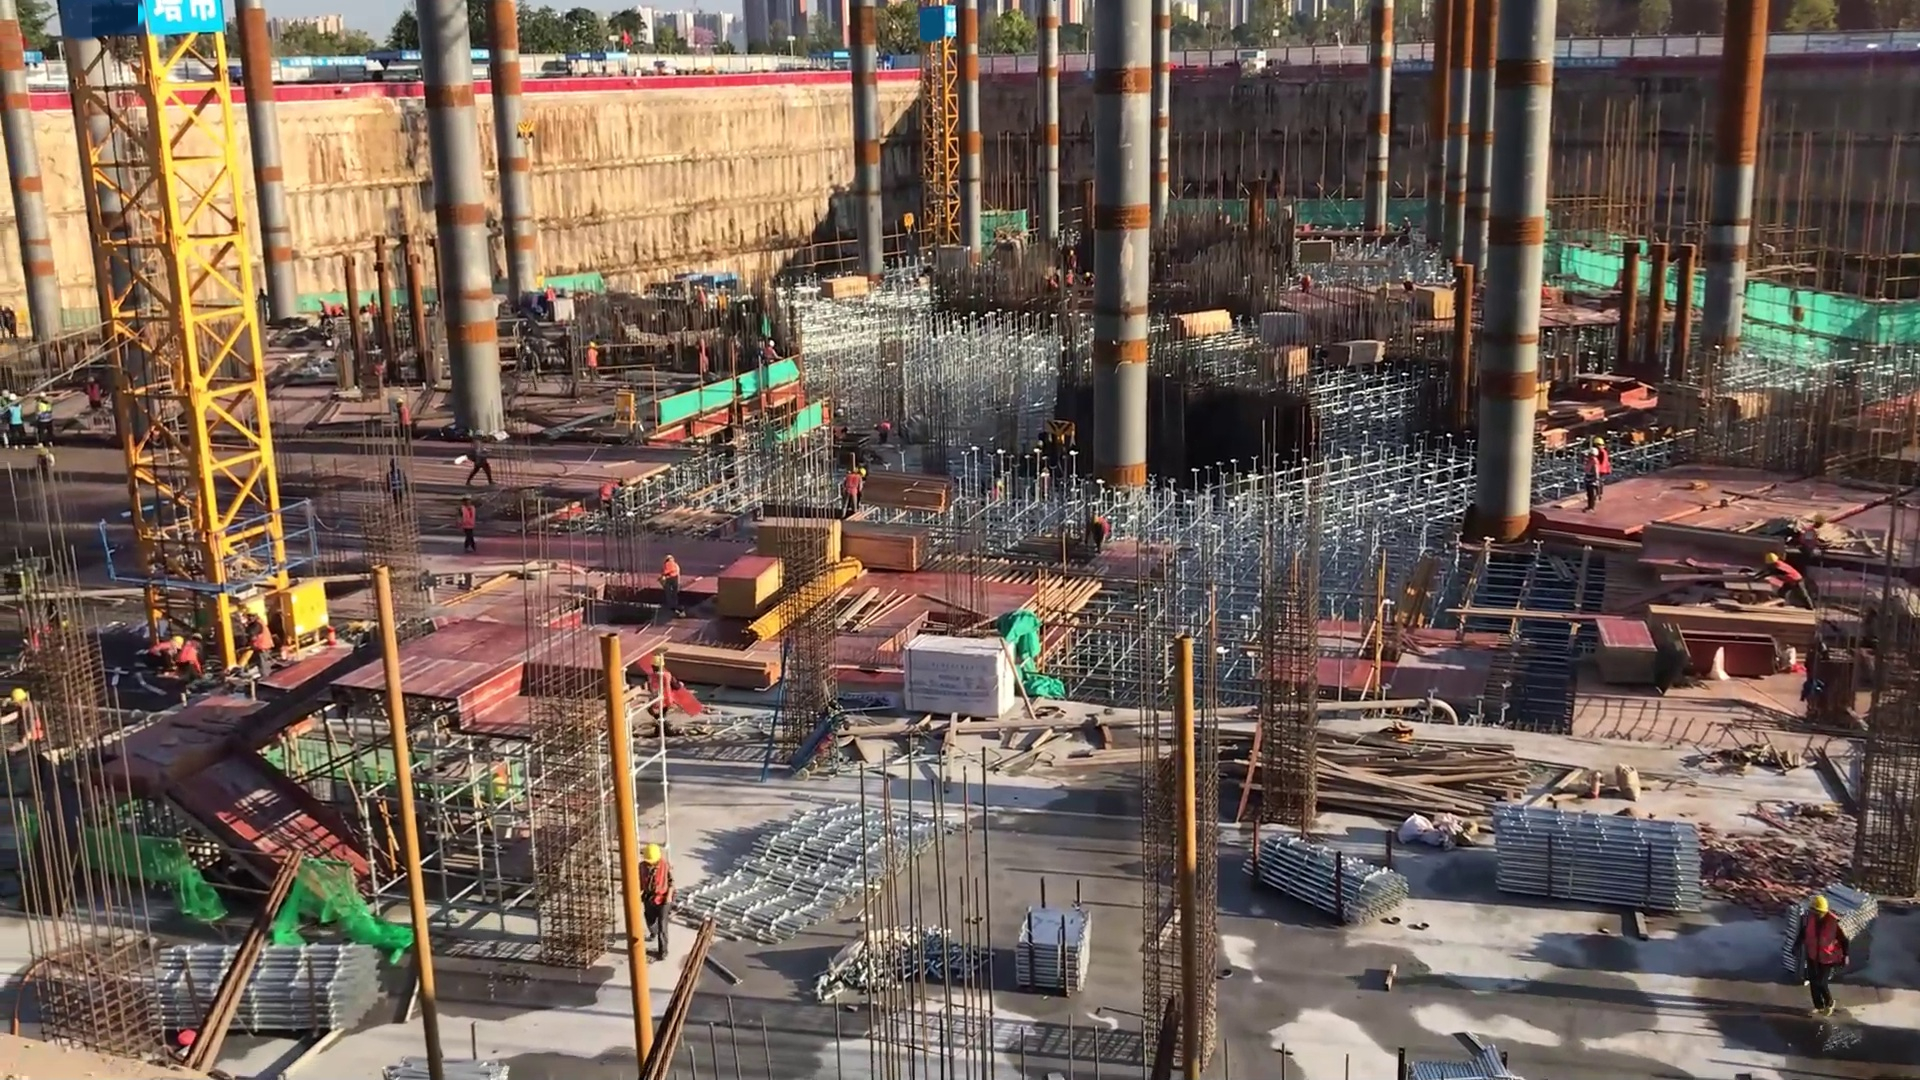board: (752, 514, 840, 580), (1595, 618, 1662, 690), (715, 555, 785, 618)
ebox: (278, 578, 330, 652), (615, 389, 640, 432)
helmet: (1805, 894, 1836, 917), (643, 841, 665, 870), (11, 684, 34, 708), (649, 654, 672, 673), (247, 598, 262, 623), (1761, 549, 1782, 567), (170, 634, 189, 651), (37, 388, 51, 406), (1593, 434, 1607, 451), (464, 492, 476, 508), (8, 391, 22, 404), (86, 376, 97, 389), (768, 337, 779, 349), (586, 340, 598, 351), (395, 399, 405, 411)
hook: (512, 113, 545, 157), (902, 210, 919, 235)
person: (1793, 892, 1849, 1021), (635, 843, 676, 968), (1747, 550, 1815, 615), (1782, 508, 1830, 589), (237, 598, 279, 690), (646, 655, 680, 745), (1412, 279, 1461, 333), (462, 426, 497, 489), (11, 689, 44, 754), (31, 387, 62, 452), (379, 456, 410, 514), (144, 633, 190, 672), (174, 632, 208, 684), (660, 549, 685, 619), (1081, 506, 1112, 559), (392, 394, 417, 457), (598, 470, 629, 520), (458, 490, 480, 558), (6, 390, 28, 454), (1594, 434, 1613, 501), (841, 463, 864, 517), (82, 375, 106, 421), (1584, 444, 1599, 513), (763, 336, 784, 375), (873, 417, 895, 452), (584, 341, 601, 385), (316, 296, 331, 330), (546, 283, 559, 321), (1062, 267, 1078, 297), (329, 300, 349, 322), (1067, 248, 1079, 271)
scaffold: (155, 928, 425, 1039), (1481, 806, 1701, 920), (1247, 830, 1418, 944)
slogan: (159, 1, 216, 48), (1552, 49, 1619, 78), (1383, 56, 1436, 76)
vest: (1797, 908, 1851, 975), (636, 862, 678, 920), (1769, 561, 1805, 589), (248, 619, 277, 653), (180, 640, 205, 678), (384, 466, 409, 497), (34, 401, 57, 432), (460, 506, 478, 535), (662, 562, 680, 584)
wood: (1319, 736, 1530, 815), (1648, 596, 1827, 647), (660, 648, 789, 686), (839, 519, 935, 569), (862, 472, 957, 511), (1168, 302, 1232, 350), (1327, 330, 1389, 376), (822, 270, 870, 313)
